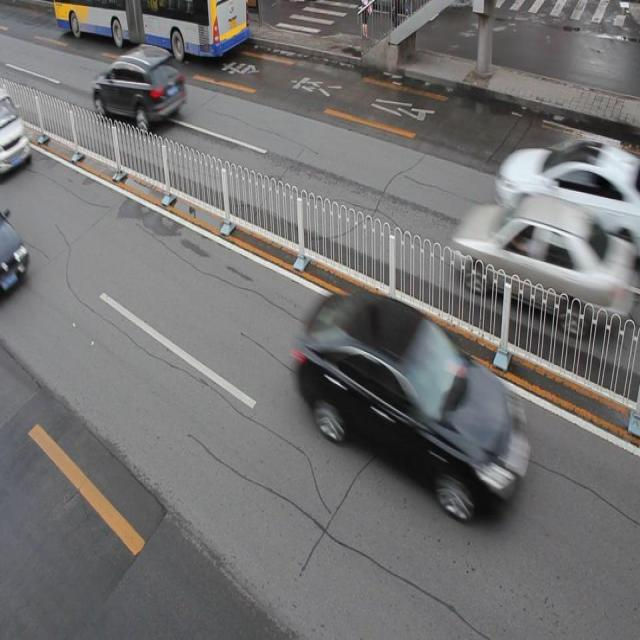car: (294, 290, 522, 515), (457, 194, 626, 331), (496, 139, 640, 240), (92, 44, 187, 129), (1, 209, 30, 304)
truck: (0, 86, 32, 181)
van: (54, 1, 249, 58)
